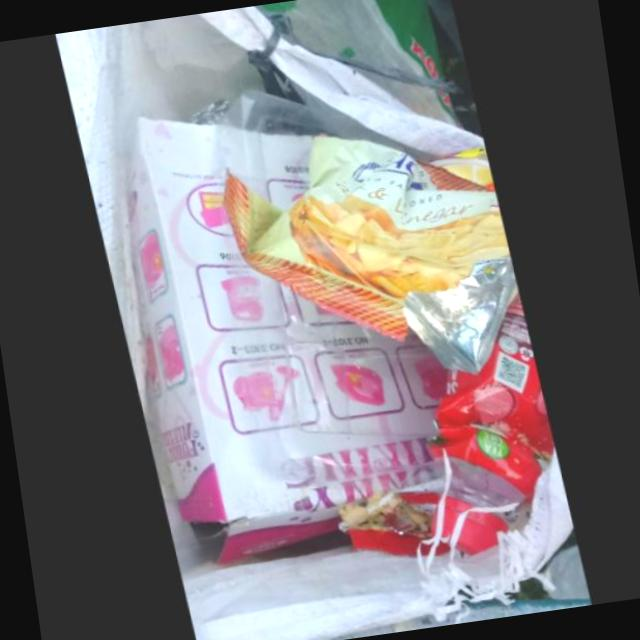bao_bi_thuc_pham: (221, 142, 516, 379)
carton: (129, 128, 445, 574)
